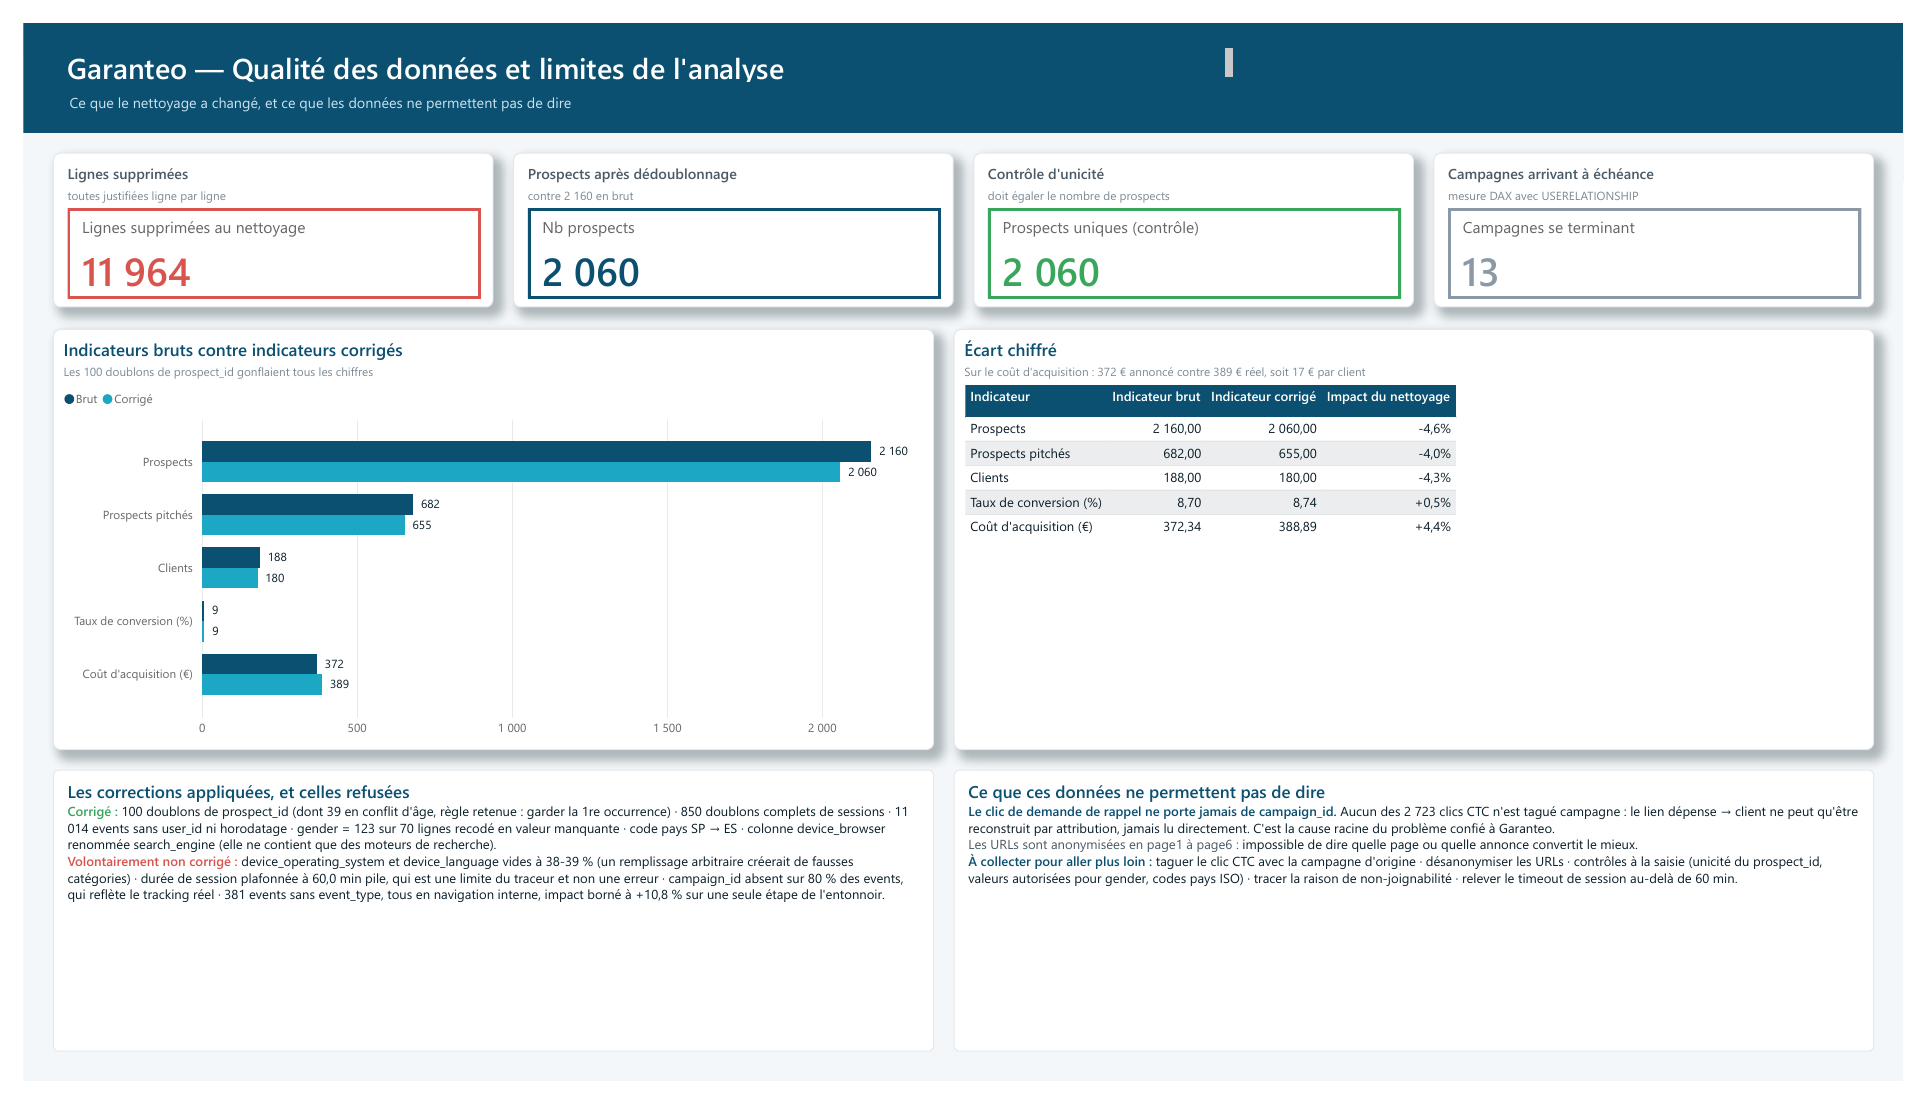

Layout of this report page (visuals, bound fields, positions):
{"tool":"powerbi","page":{"name":"7 · Qualité des données","canvas":[1920,1080],"ordinal":6},"visuals":[{"type":"shape","box":[0,0,1920,112],"z":0},{"type":"cardVisual","title":"Lignes supprimées","fields":{"Data":["_Mesures.Lignes supprimées au nettoyage"]},"box":[30,132,450,158],"z":1000},{"type":"cardVisual","title":"Prospects après dédoublonnage","fields":{"Data":["_Mesures.Nb prospects"]},"box":[500,132,450,158],"z":2000},{"type":"cardVisual","title":"Contrôle d'unicité","fields":{"Data":["_Mesures.Prospects uniques (contrôle)"]},"box":[970,132,450,158],"z":3000},{"type":"cardVisual","title":"Campagnes arrivant à échéance","fields":{"Data":["_Mesures.Campagnes se terminant"]},"box":[1440,132,450,158],"z":4000},{"type":"clusteredBarChart","title":"Indicateurs bruts contre indicateurs corrigés","fields":{"Category":["QualiteDonnees.Indicateur"],"Y":["Sum(QualiteDonnees.Brut)","Sum(QualiteDonnees.Corrige)"]},"box":[30,312,900,430],"z":5000},{"type":"tableEx","title":"Écart chiffré","fields":{"Values":["QualiteDonnees.Indicateur","_Mesures.Indicateur brut","_Mesures.Indicateur corrigé","_Mesures.Impact du nettoyage"]},"box":[950,312,940,430],"z":6000},{"type":"textbox","box":[30,762,900,288],"z":7000},{"type":"textbox","box":[950,762,940,288],"z":8000},{"type":"textbox","box":[40,20,1200,44],"z":9000},{"type":"textbox","box":[42,66,1400,30],"z":10000}]}

Visuals, with their boxes in screenshot pixels (x1, y1, x2, y2), scaled from the page's 1920x1080 canvas onto the 1927x1105 screenshot:
shape: l=0, t=0, r=1926, b=115
"Lignes supprimées" cardVisual: l=30, t=135, r=482, b=297
"Prospects après dédoublonnage" cardVisual: l=502, t=135, r=953, b=297
"Contrôle d'unicité" cardVisual: l=974, t=135, r=1425, b=297
"Campagnes arrivant à échéance" cardVisual: l=1445, t=135, r=1897, b=297
"Indicateurs bruts contre indicateurs corrigés" clusteredBarChart: l=30, t=319, r=933, b=759
"Écart chiffré" tableEx: l=953, t=319, r=1897, b=759
textbox: l=30, t=780, r=933, b=1074
textbox: l=953, t=780, r=1897, b=1074
textbox: l=40, t=20, r=1245, b=65
textbox: l=42, t=68, r=1447, b=98
